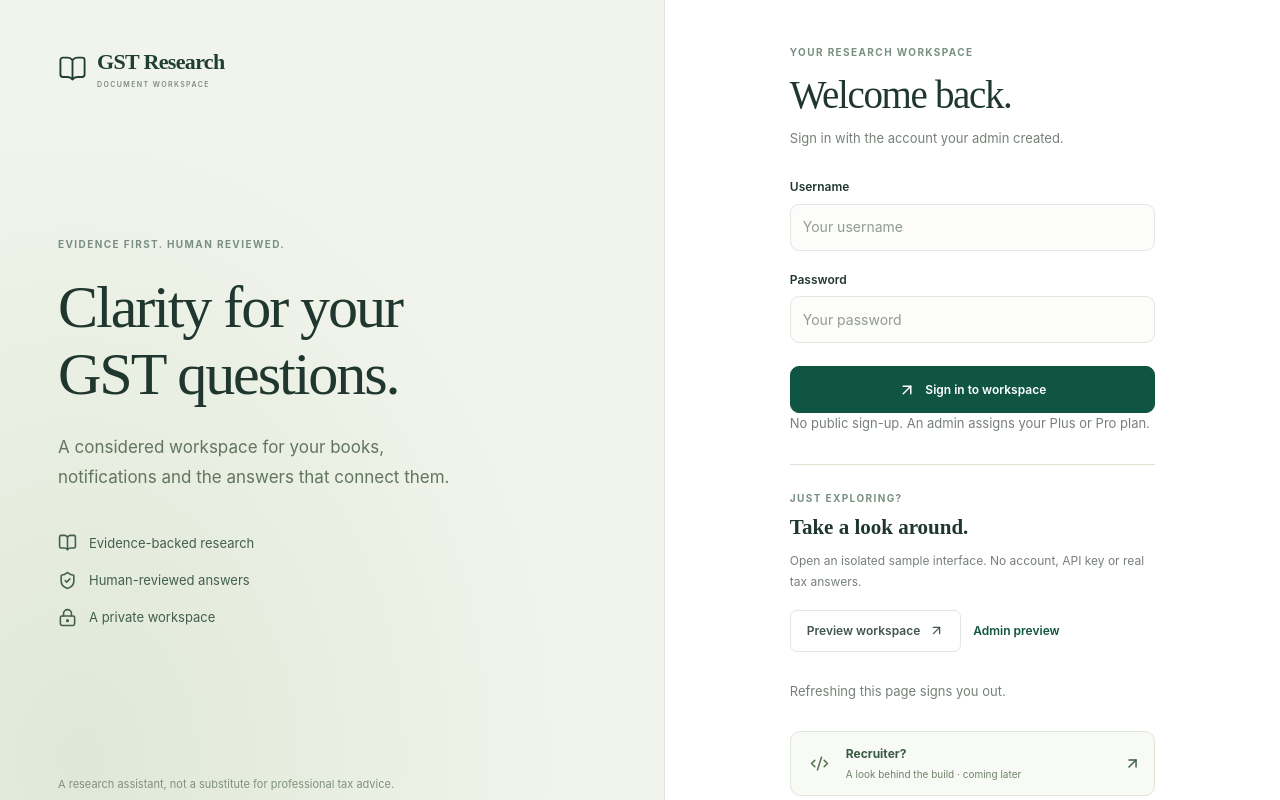
Scenario: User workspace › starts a fresh question without leaking previous answer text into the composer
The image size is (1280, 800).
Click the button "Preview workspace": (876,631) 790,610 -> 961,652
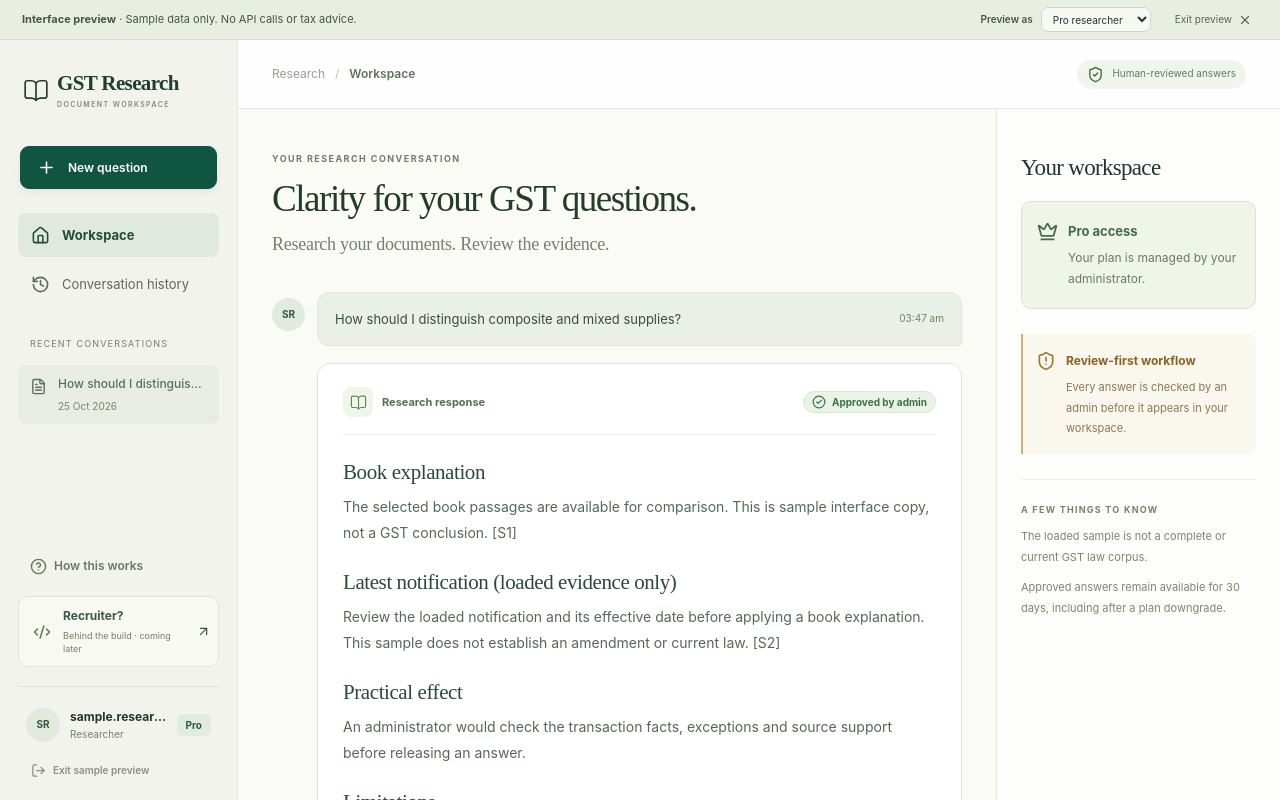
Check: the text "Sample data only. No API calls" is shown, box 116,12 -> 357,26
Click the button "New question": (118,168) 20,146 -> 217,189
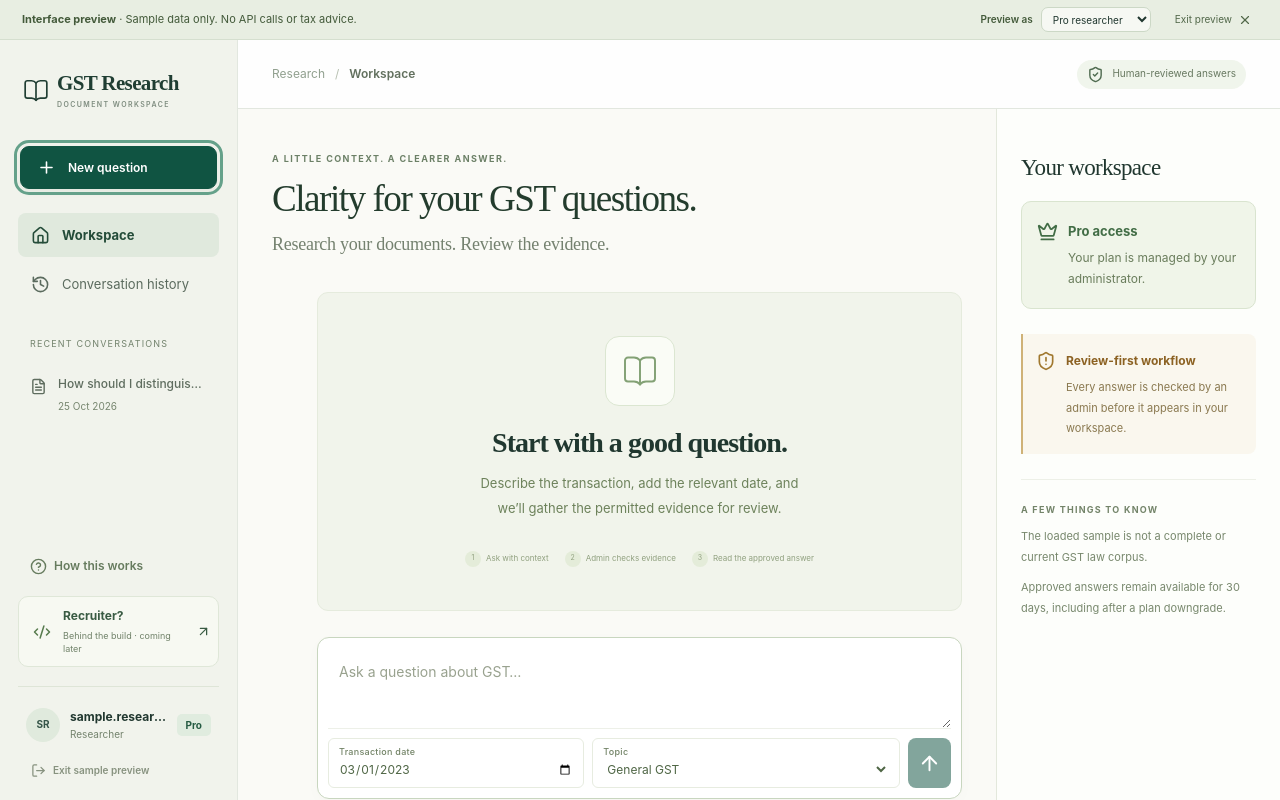
Check: the text box named "GST question" is empty, box 328,648 -> 951,728
Check: the heading "Start with a good question." is shown, box 492,427 -> 787,458
Check: the heading "Book explanation" is gone
